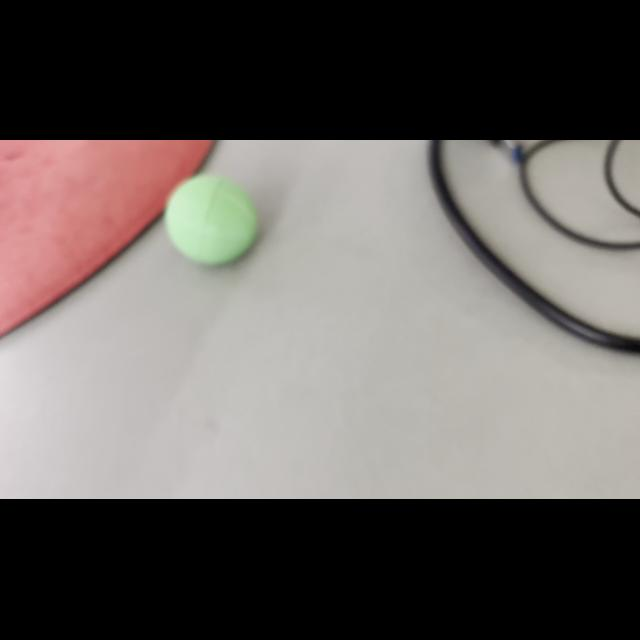objects: (160, 170, 260, 270)
